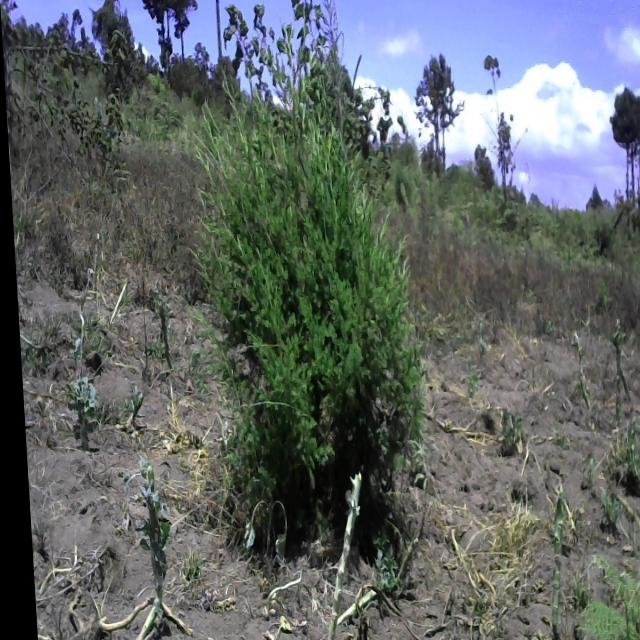cedrus: (183, 62, 432, 566), (415, 43, 466, 164), (605, 82, 633, 210), (625, 87, 640, 208)
